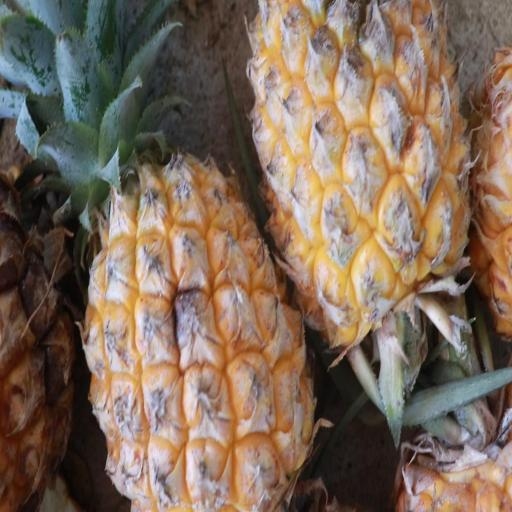Pineapple - v8 v1: (78, 0, 321, 512), (245, 0, 475, 347)
